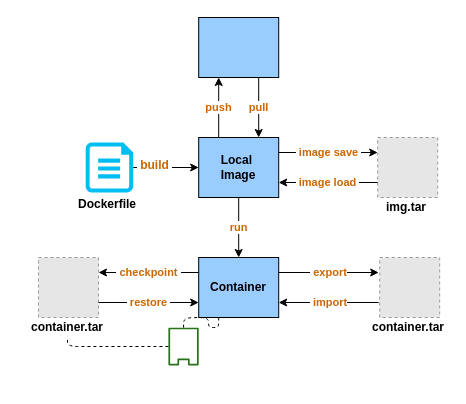
The diagram is 466 pixels wide and 404 high, and some of its shapes have lost their labels. Grey dashed boxes stand in for pictures. The box of each missing label's shape, as (x1, y1, x2, y2) in pixels:
Image Registry: (198, 16, 279, 78)
tmpfs: (168, 327, 198, 365)
